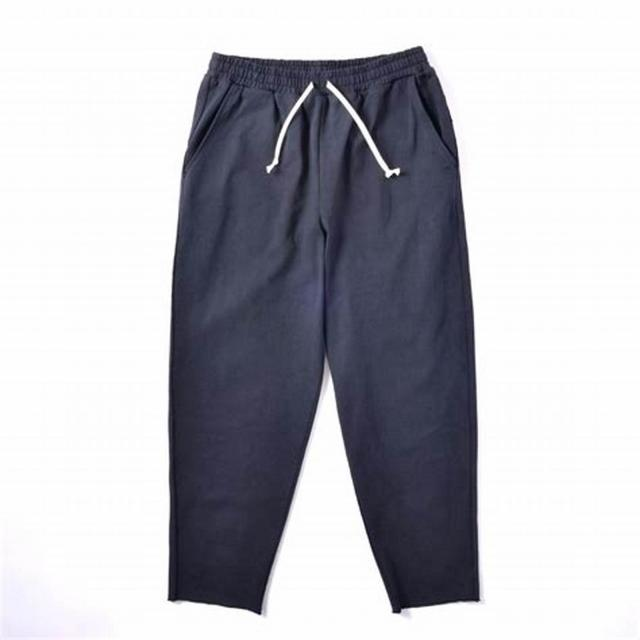long-pants: (168, 43, 480, 617)
